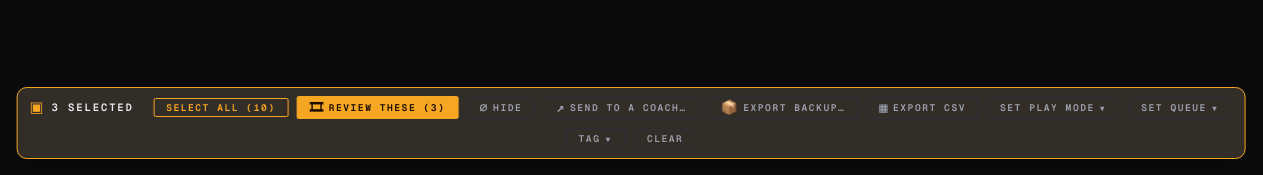
Test: BulkActionBar › bulk tag › adopts an existing tag from the suggestion list
Click the button "Tag ▾".
click(596, 139)  # box [566,128,626,150]
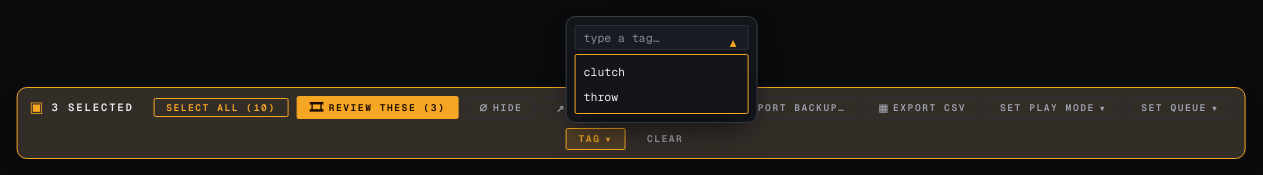
Press the mouse on the option "clutch" at coordinates (604, 71), box [584,64,625,79]
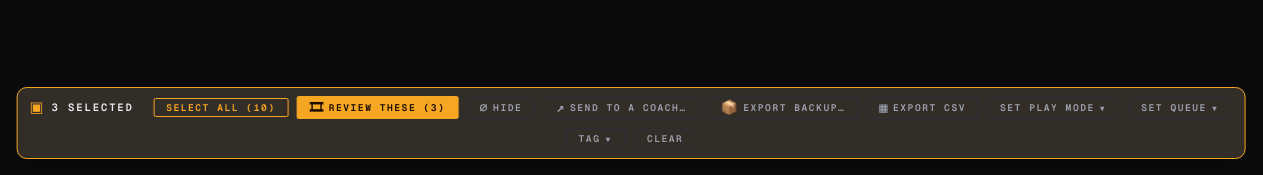
Now the button "Tag ▾" is collapsed, box [566,128,626,150]
